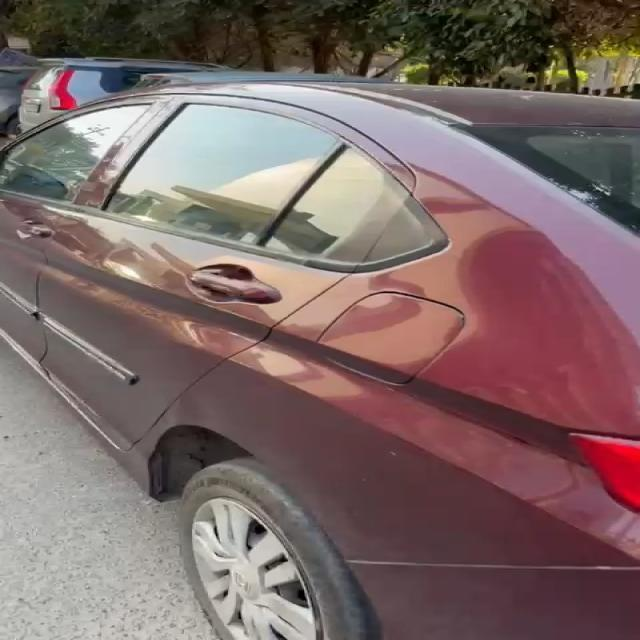car_back: (0, 71, 640, 640)
